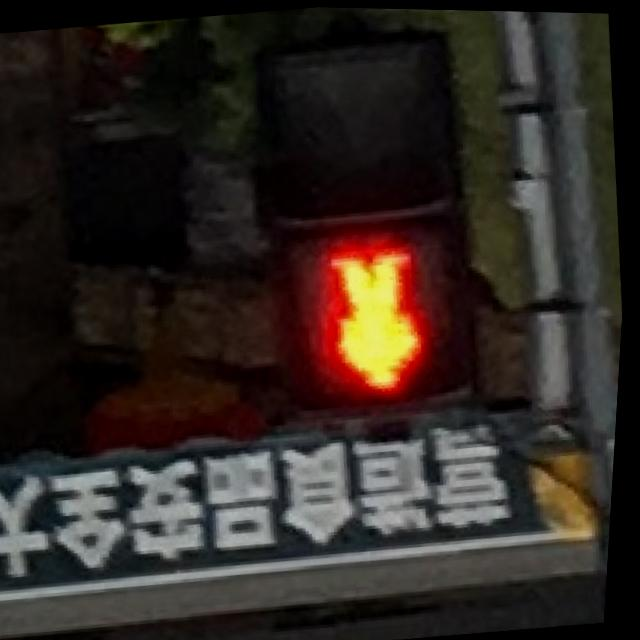red_light: (292, 221, 473, 413)
